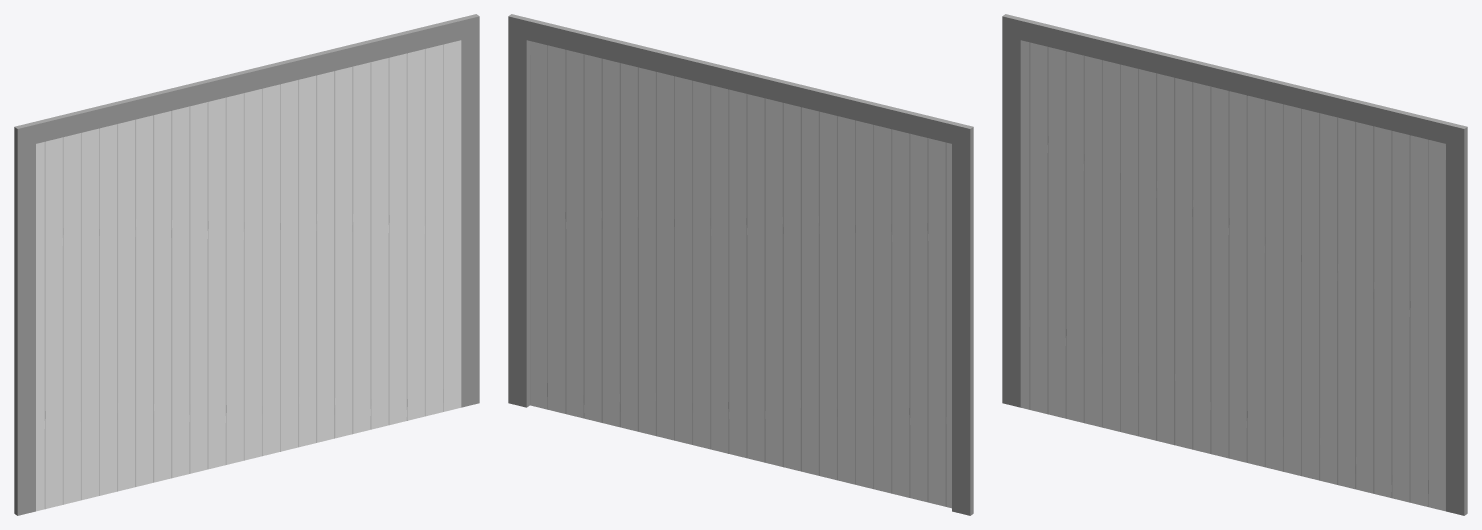
The model's file is full_gate.glb.
3 renders of one model, left to right at view 1: azimuth 30°, elevation 25°; view 2: azimuth 150°, elevation 25°; view 3: azimuth 330°, elevation 25°, orthographic.
Parts seen in each view (by area): view 1: 3DGeom-1, 3DGeom-2; view 2: 3DGeom-1, 3DGeom-2; view 3: 3DGeom-1, 3DGeom-2.
Boxes of the visible parts, x1,y1,x2,y2 form: 3DGeom-1: (36,40,461,511); 3DGeom-2: (14,14,479,515); 3DGeom-1: (530,41,951,508); 3DGeom-2: (508,14,973,515); 3DGeom-1: (1020,40,1445,511); 3DGeom-2: (1002,14,1467,515).
Size of the model in its own units: 2.5 by 2 by 0.03.
Materials: 2 (1 with a texture image).
